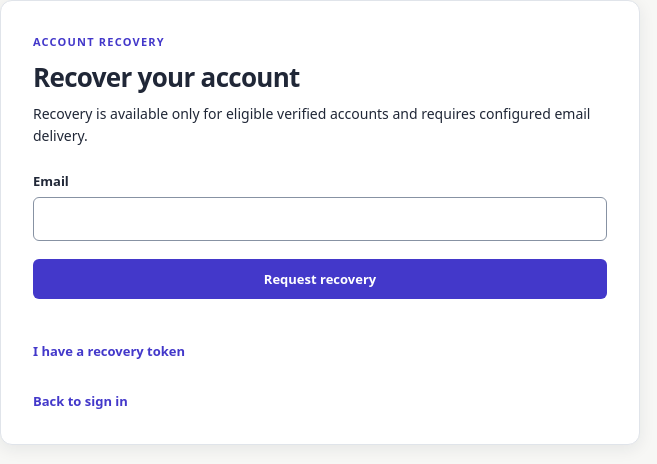
Scenario: acknowledges recovery without claiming email delivery
The image size is (657, 464).
Type "fixture@example.invalid" into the field labelled "Email".
click(320, 219); type("fixture@example.invalid")  # box [33, 197, 607, 241]
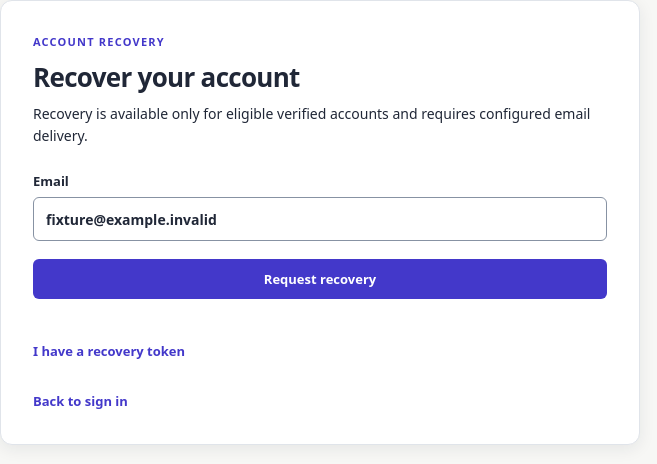
Click the button "Request recovery".
click(320, 279)  # box [33, 259, 607, 299]
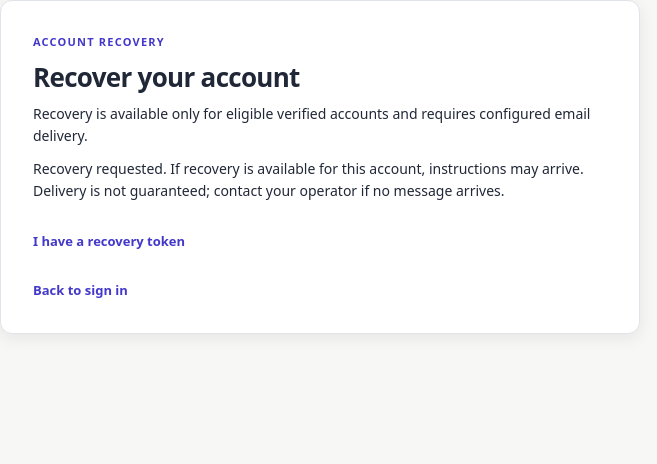
Result: the text "If recovery is available" shows "Delivery is not guaranteed" at [33, 159, 584, 200]
